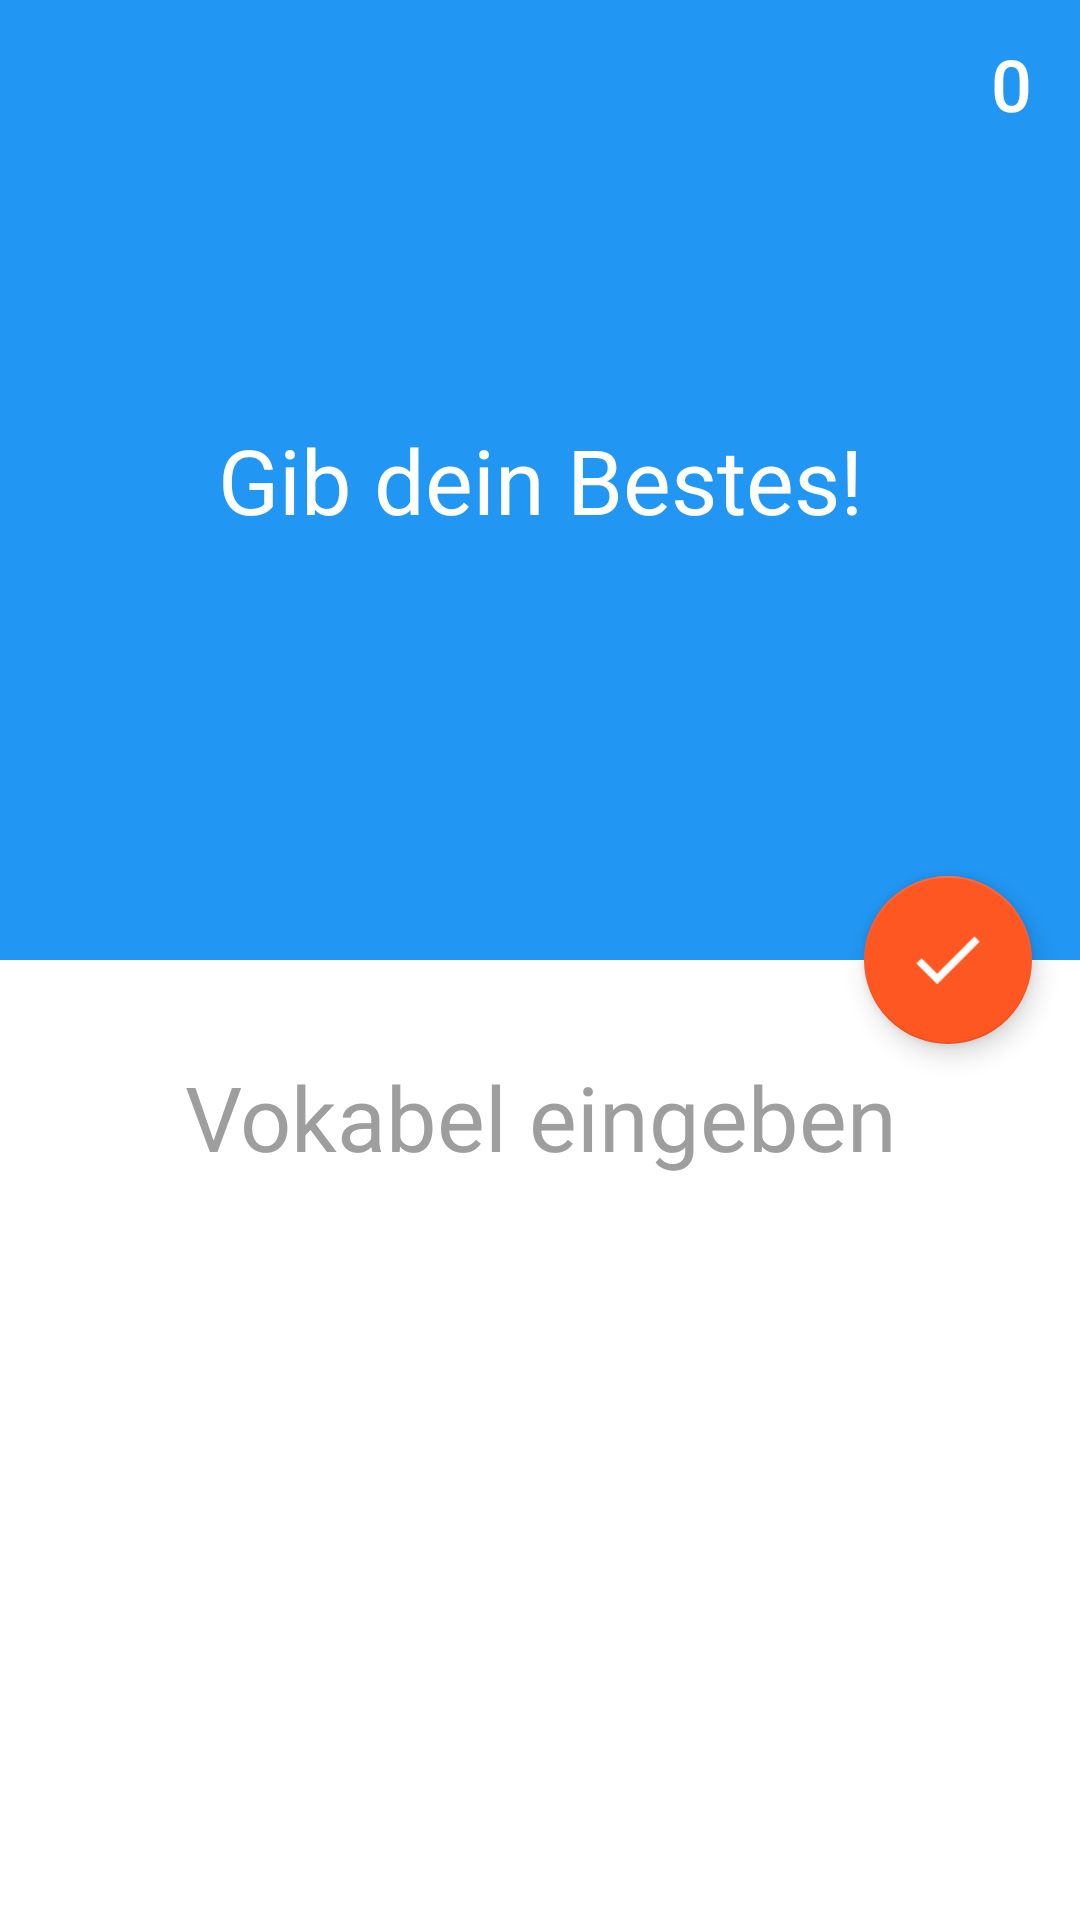

Icons on this 1080px×1920px Android screen, each with the point to tap as (x,y):
done: (948,960)
